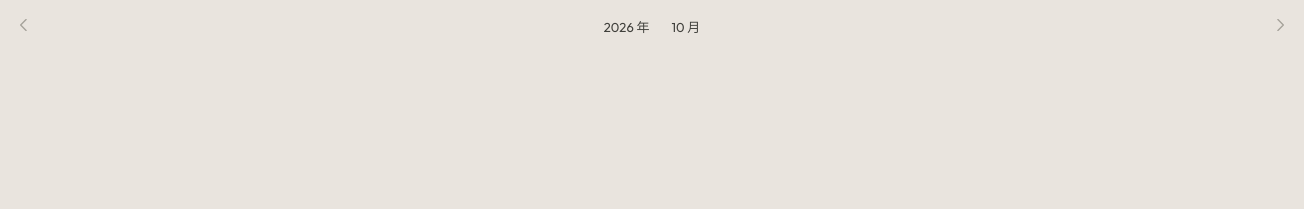
Scenario: CalendarNavBar · 月份切换 › 点「月」出现 12 个月网格
The width and height of the screenshot is (1304, 209).
Click the button with class "nav-pick" showing "10 月" at x=686, y=26, box [662,14,709,38]
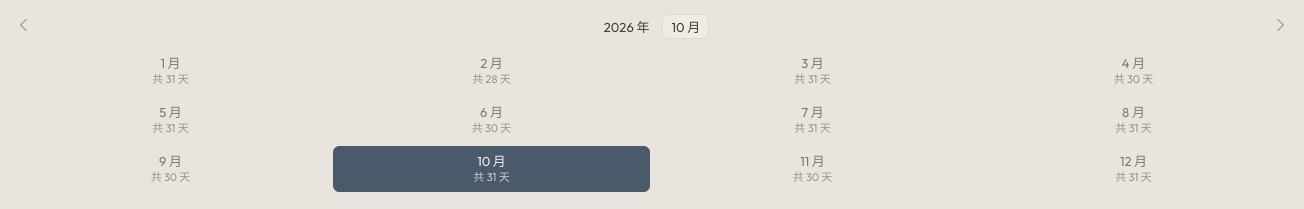
Now the number of options with class "nav-cell" is 12
